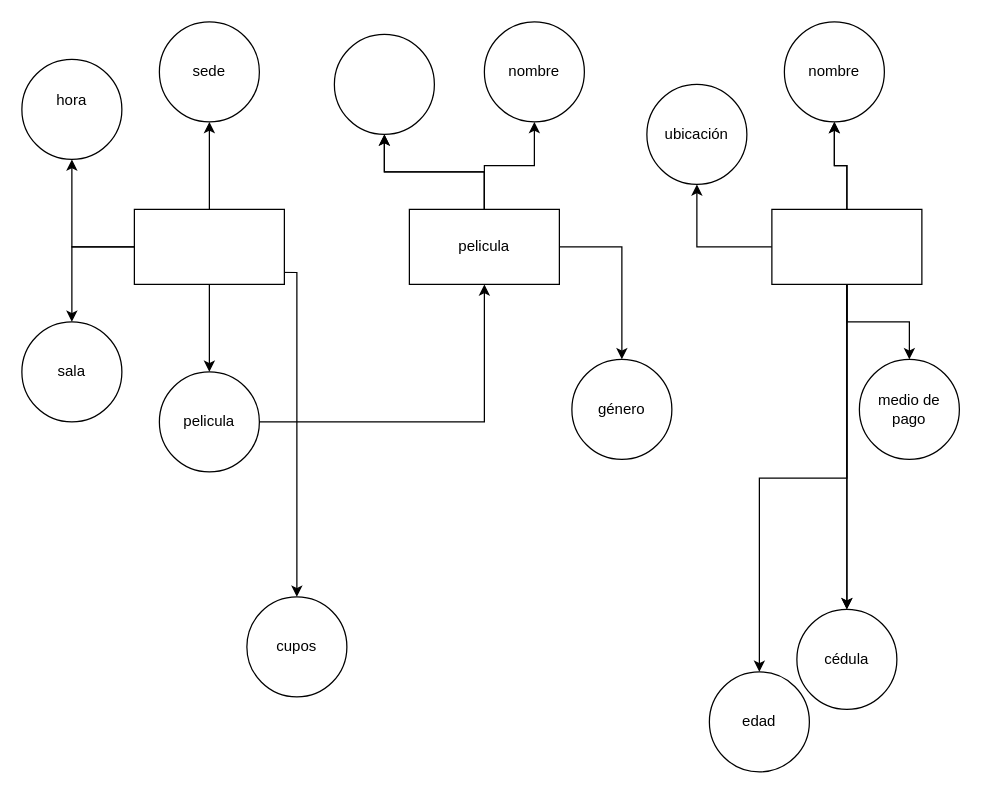
Some shapes in this 981 by 794 pixel diagram are drawn without their labels. Each missing label, with the centre of its shape:
"clasificación" belongs at [383,83].
"cliente" belongs at [846,246].
"función" belongs at [208,246].
